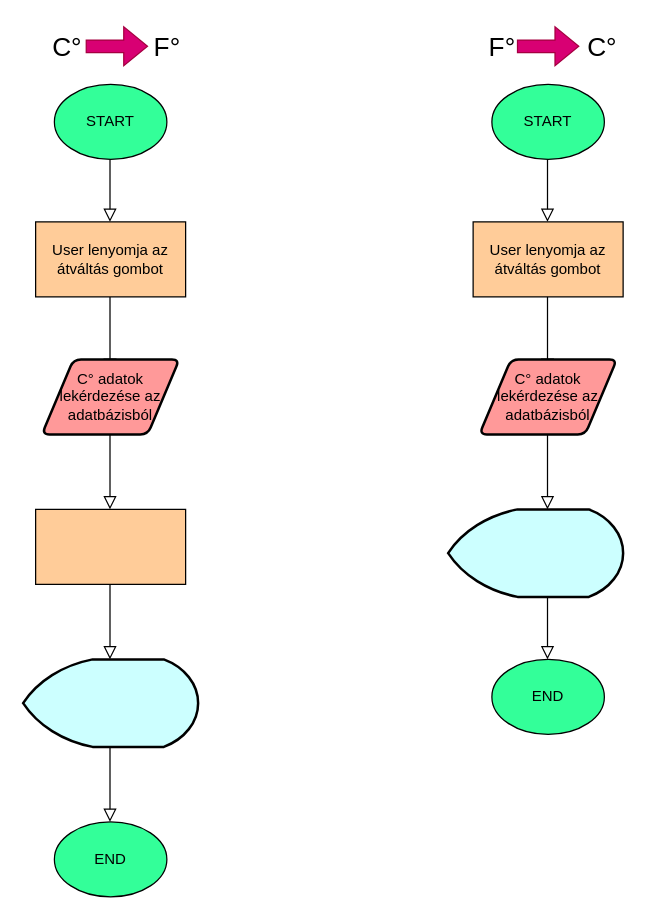
Image size: 654x919. Some labels were removed from this diagram. Here are the shapes that lost their labels. From the top down, the centre of each, then its label:
the point at 110,546: C° -> F° átváltási algoritmus lefut a képlet segítségével
the point at 535,553: Hőmérsékleti adatok megjelenítése C°-ben
the point at 110,703: Hőmérsékleti adatok megjelenítése F°-ben
